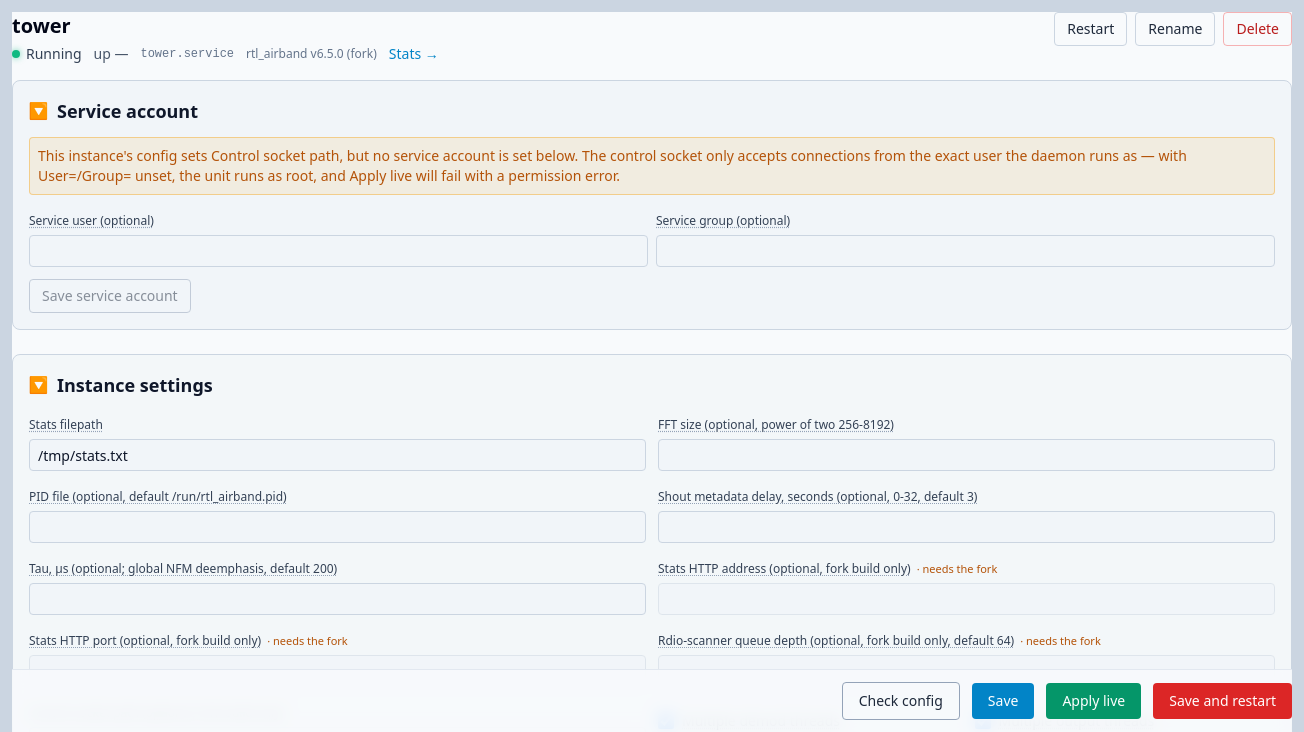
Test case: InstanceEditPage Apply live result › lists what was applied and what still needs a restart
The image size is (1304, 732).
Click the button "Apply live".
click(1094, 701)  # box [1046, 683, 1141, 719]
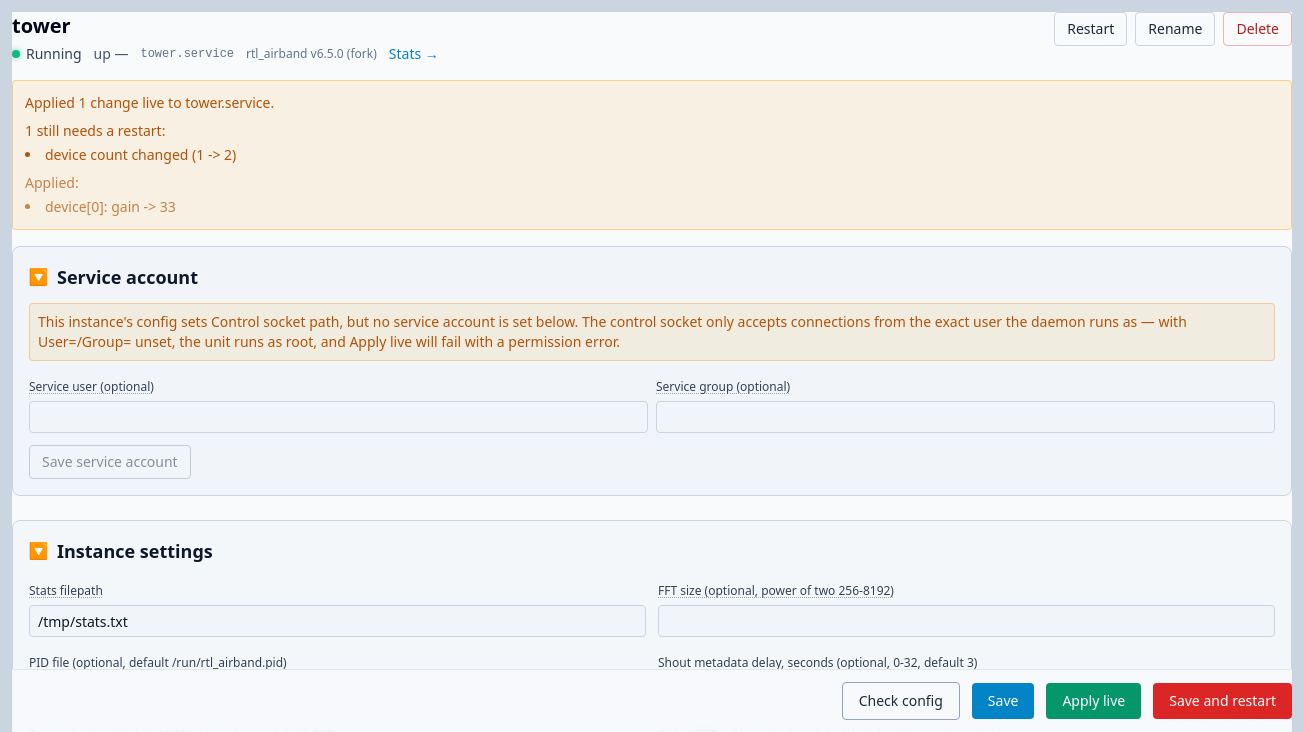
Expected: the text "1 still needs a restart:" is shown, [25, 121, 165, 140]
Expected: the list item "device count changed (1 -> 2)" is shown, [45, 145, 236, 164]
Expected: the list item "device[0]: gain -> 33" is shown, [45, 197, 176, 216]
